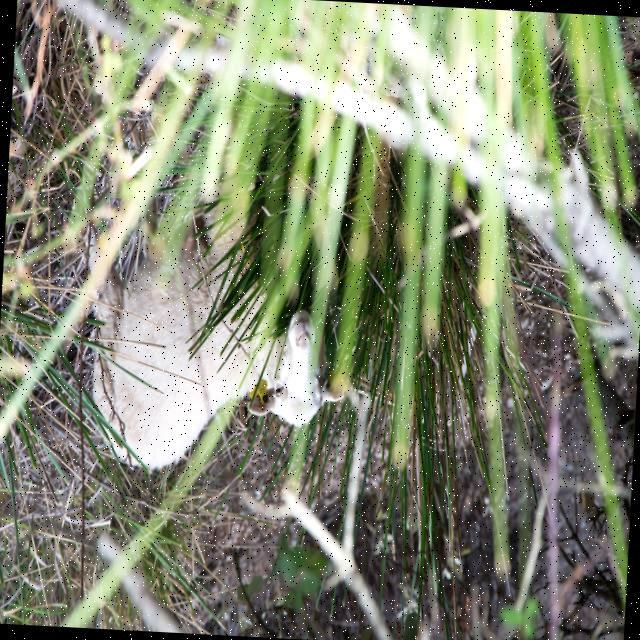sheep: (82, 205, 343, 473)
